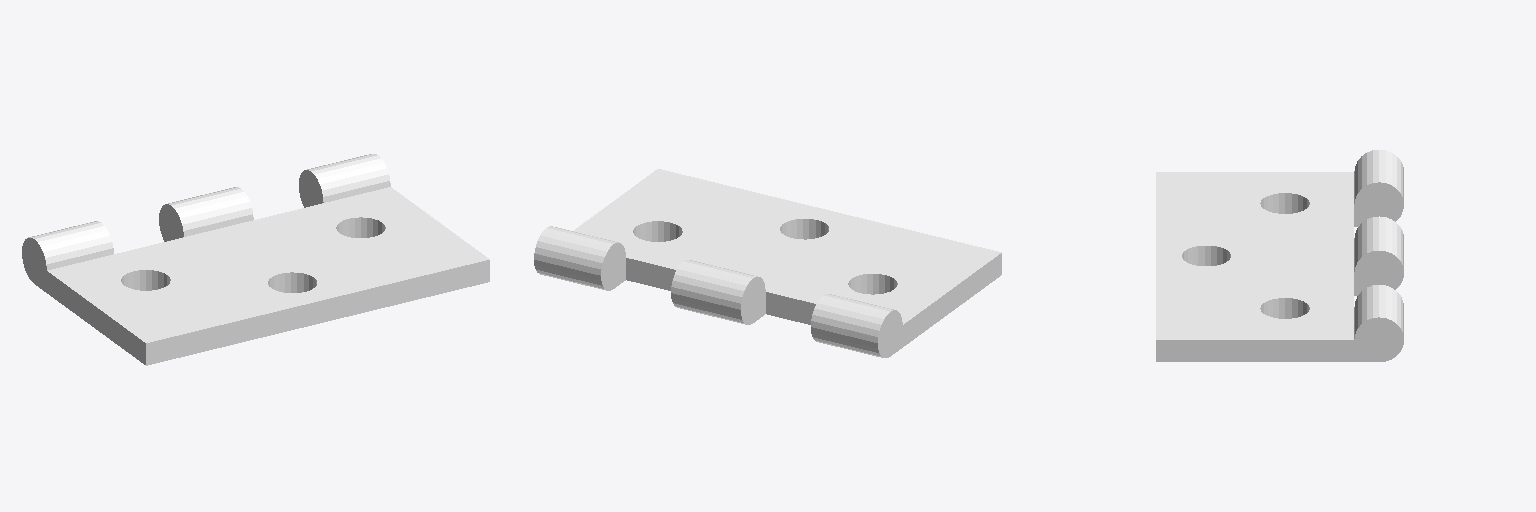
Rendered from Hinges_1_base.obj.
3 renders of one model, left to right at view 1: azimuth 30°, elevation 25°; view 2: azimuth 150°, elevation 25°; view 3: azimuth 270°, elevation 25°, orthographic.
Visible parts, largest first — view 1: Hinges_1_base_g_2543-Default_Material; view 2: Hinges_1_base_g_2543-Default_Material; view 3: Hinges_1_base_g_2543-Default_Material.
Boxes of the visible parts, x1,y1,x2,y2 form: Hinges_1_base_g_2543-Default_Material: [22, 154, 489, 365]; Hinges_1_base_g_2543-Default_Material: [534, 169, 1001, 357]; Hinges_1_base_g_2543-Default_Material: [1156, 150, 1403, 361].
Size of the model in its own units: 1.02 by 0.1273 by 0.6353.